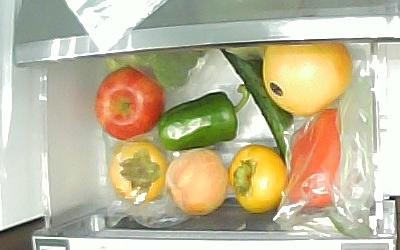apple: (96, 65, 165, 139)
broccoli: (105, 47, 204, 88)
cucumber: (222, 47, 293, 163)
grapefruit: (262, 44, 353, 115)
paprika: (158, 83, 251, 151)
paprika_vinyl: (282, 106, 357, 236)
peach: (165, 149, 230, 217)
persimmon: (227, 144, 286, 213)
persimmon_vinyl: (109, 143, 168, 204)
